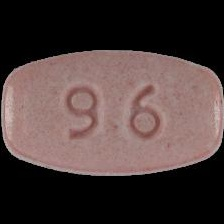60687-179: (0, 0, 224, 224)
